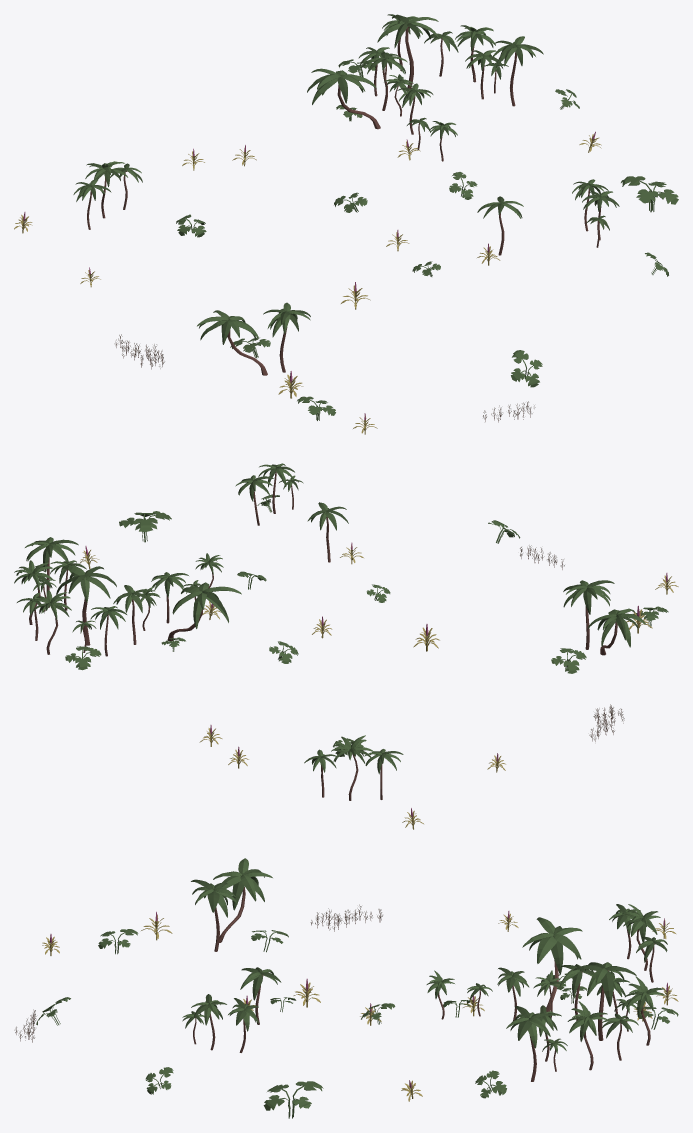
Rendered from tropical-island-vegetation.glb.
3 renders of one model, top to bottom at view 1: azimuth 30°, elevation 25°; view 2: azimuth 150°, elevation 25°; view 3: azimuth 270°, elevation 25°, orthographic. The views are drawn at different scales.
Visible parts, largest first — view 1: PalmTree_2_Cylinder.002, PalmTree_2_Cylinder.001, PalmTree_4_Cylinder.004, PalmTree_3_Cylinder.006, Plant_4_Plane.012, PalmTree_3_Cylinder.002; view 2: PalmTree_2_Cylinder.002, PalmTree_4_Cylinder.004, PalmTree_2_Cylinder.001, PalmTree_3_Cylinder.002, PalmTree_3_Cylinder.006, PalmTree_1_Cylinder.001, PalmTree_1_Cylinder.002, Plant_4_Plane.012, PalmTree_1_Cylinder.003, PalmTree_4_Cylinder.003, PalmTree_4_Cylinder.008; view 3: PalmTree_2_Cylinder.002, PalmTree_2_Cylinder.001, PalmTree_4_Cylinder.004, PalmTree_3_Cylinder.006, PalmTree_3_Cylinder.002, Plant_4_Plane.012, PalmTree_1_Cylinder.003, PalmTree_1_Cylinder.002, PalmTree_1_Cylinder.001, PalmTree_4_Cylinder.008, PalmTree_3_Cylinder.007, PalmTree_3_Cylinder.008 (+7 smaller).
Part boxes in pixels (bbox=[...]): PalmTree_2_Cylinder.002: bbox=[307, 68, 380, 129]; PalmTree_2_Cylinder.001: bbox=[197, 310, 267, 375]; PalmTree_4_Cylinder.004: bbox=[377, 14, 438, 94]; PalmTree_3_Cylinder.006: bbox=[492, 36, 543, 106]; Plant_4_Plane.012: bbox=[621, 176, 678, 212]; PalmTree_3_Cylinder.002: bbox=[263, 302, 310, 372]; PalmTree_2_Cylinder.002: bbox=[167, 582, 241, 640]; PalmTree_4_Cylinder.004: bbox=[56, 566, 116, 645]; PalmTree_2_Cylinder.001: bbox=[587, 608, 646, 655]; PalmTree_3_Cylinder.002: bbox=[563, 580, 614, 649]; PalmTree_3_Cylinder.006: bbox=[25, 537, 78, 607]; PalmTree_1_Cylinder.001: bbox=[331, 735, 374, 800]; PalmTree_1_Cylinder.002: bbox=[32, 590, 71, 654]; Plant_4_Plane.012: bbox=[119, 511, 171, 542]; PalmTree_1_Cylinder.003: bbox=[14, 560, 53, 624]; PalmTree_4_Cylinder.003: bbox=[113, 585, 154, 644]; PalmTree_4_Cylinder.008: bbox=[307, 502, 348, 562]; PalmTree_2_Cylinder.002: bbox=[522, 917, 582, 1011]; PalmTree_2_Cylinder.001: bbox=[213, 858, 272, 942]; PalmTree_4_Cylinder.004: bbox=[573, 962, 636, 1040]; PalmTree_3_Cylinder.006: bbox=[506, 1006, 550, 1081]; PalmTree_3_Cylinder.002: bbox=[191, 879, 237, 951]; Plant_4_Plane.012: bbox=[263, 1081, 323, 1118]; PalmTree_1_Cylinder.003: bbox=[567, 1001, 607, 1070]; PalmTree_1_Cylinder.002: bbox=[625, 976, 665, 1045]; PalmTree_1_Cylinder.001: bbox=[622, 904, 660, 970]; PalmTree_4_Cylinder.008: bbox=[240, 967, 281, 1024]; PalmTree_3_Cylinder.007: bbox=[228, 998, 258, 1052]; PalmTree_3_Cylinder.008: bbox=[191, 994, 226, 1050].
Bounding box in the file's own units: 71.88 × 20.27 × 76.49.
